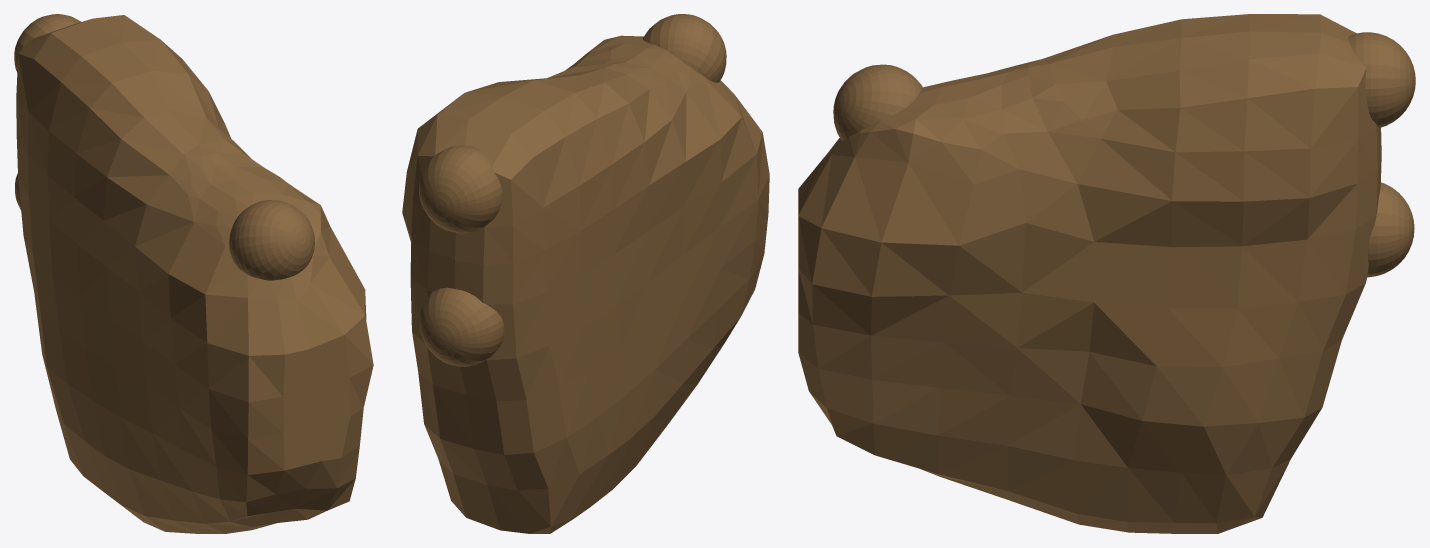
File: LWy_joint_visu.dae
3 views of the same model, side by side, from view 1: azimuth 30°, elevation 25°; view 2: azimuth 150°, elevation 25°; view 3: azimuth 270°, elevation 25° (orthographic). The views are drawn at different scales.
Parts seen in each view (by area): view 1: node; view 2: node; view 3: node.
Boxes of the visible parts, bbox=[...] form: node: bbox=[14, 14, 373, 533]; node: bbox=[402, 14, 769, 533]; node: bbox=[798, 14, 1415, 533].
Size of the model in its own units: 0.0181 by 0.0453 by 0.0514.
